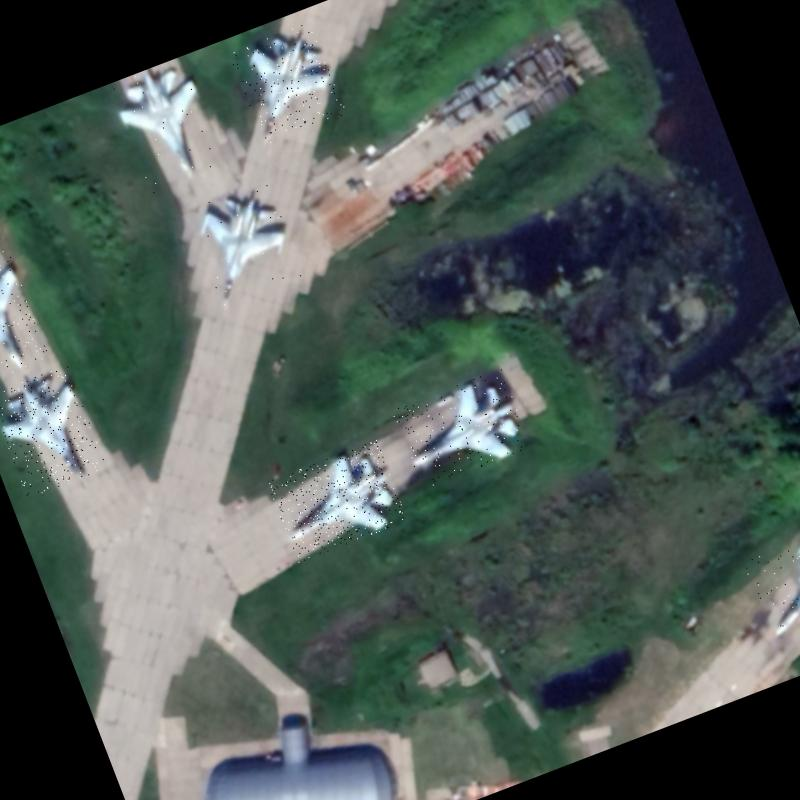A1: (106, 54, 230, 196), (266, 439, 408, 563), (390, 368, 532, 490), (186, 179, 304, 307), (228, 20, 348, 145), (0, 364, 106, 498), (0, 244, 49, 387), (743, 520, 800, 640)
